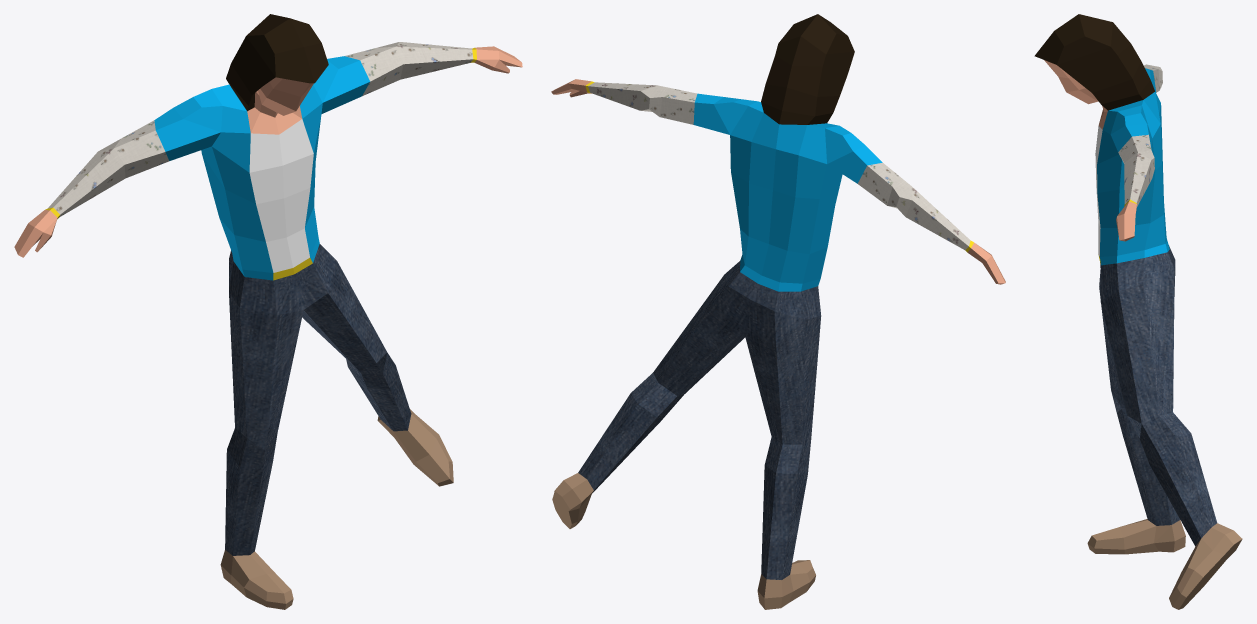
Rendered from SpringGirl.001.glb.
The picture shows the model from 3 angles, left to right: view 1: azimuth 30°, elevation 25°; view 2: azimuth 150°, elevation 25°; view 3: azimuth 270°, elevation 25°; orthographic projection. The views are drawn at different scales.
Visible parts, largest first — view 1: SpringGirl.001; view 2: SpringGirl.001; view 3: SpringGirl.001.
Part boxes in pixels (x1,y1,x2,y2): SpringGirl.001: (14, 14, 522, 609); SpringGirl.001: (551, 14, 1005, 609); SpringGirl.001: (1034, 14, 1242, 609).
Size of the model in its own units: 1.04 by 1.2 by 0.424.
1 material, 1 textured.
